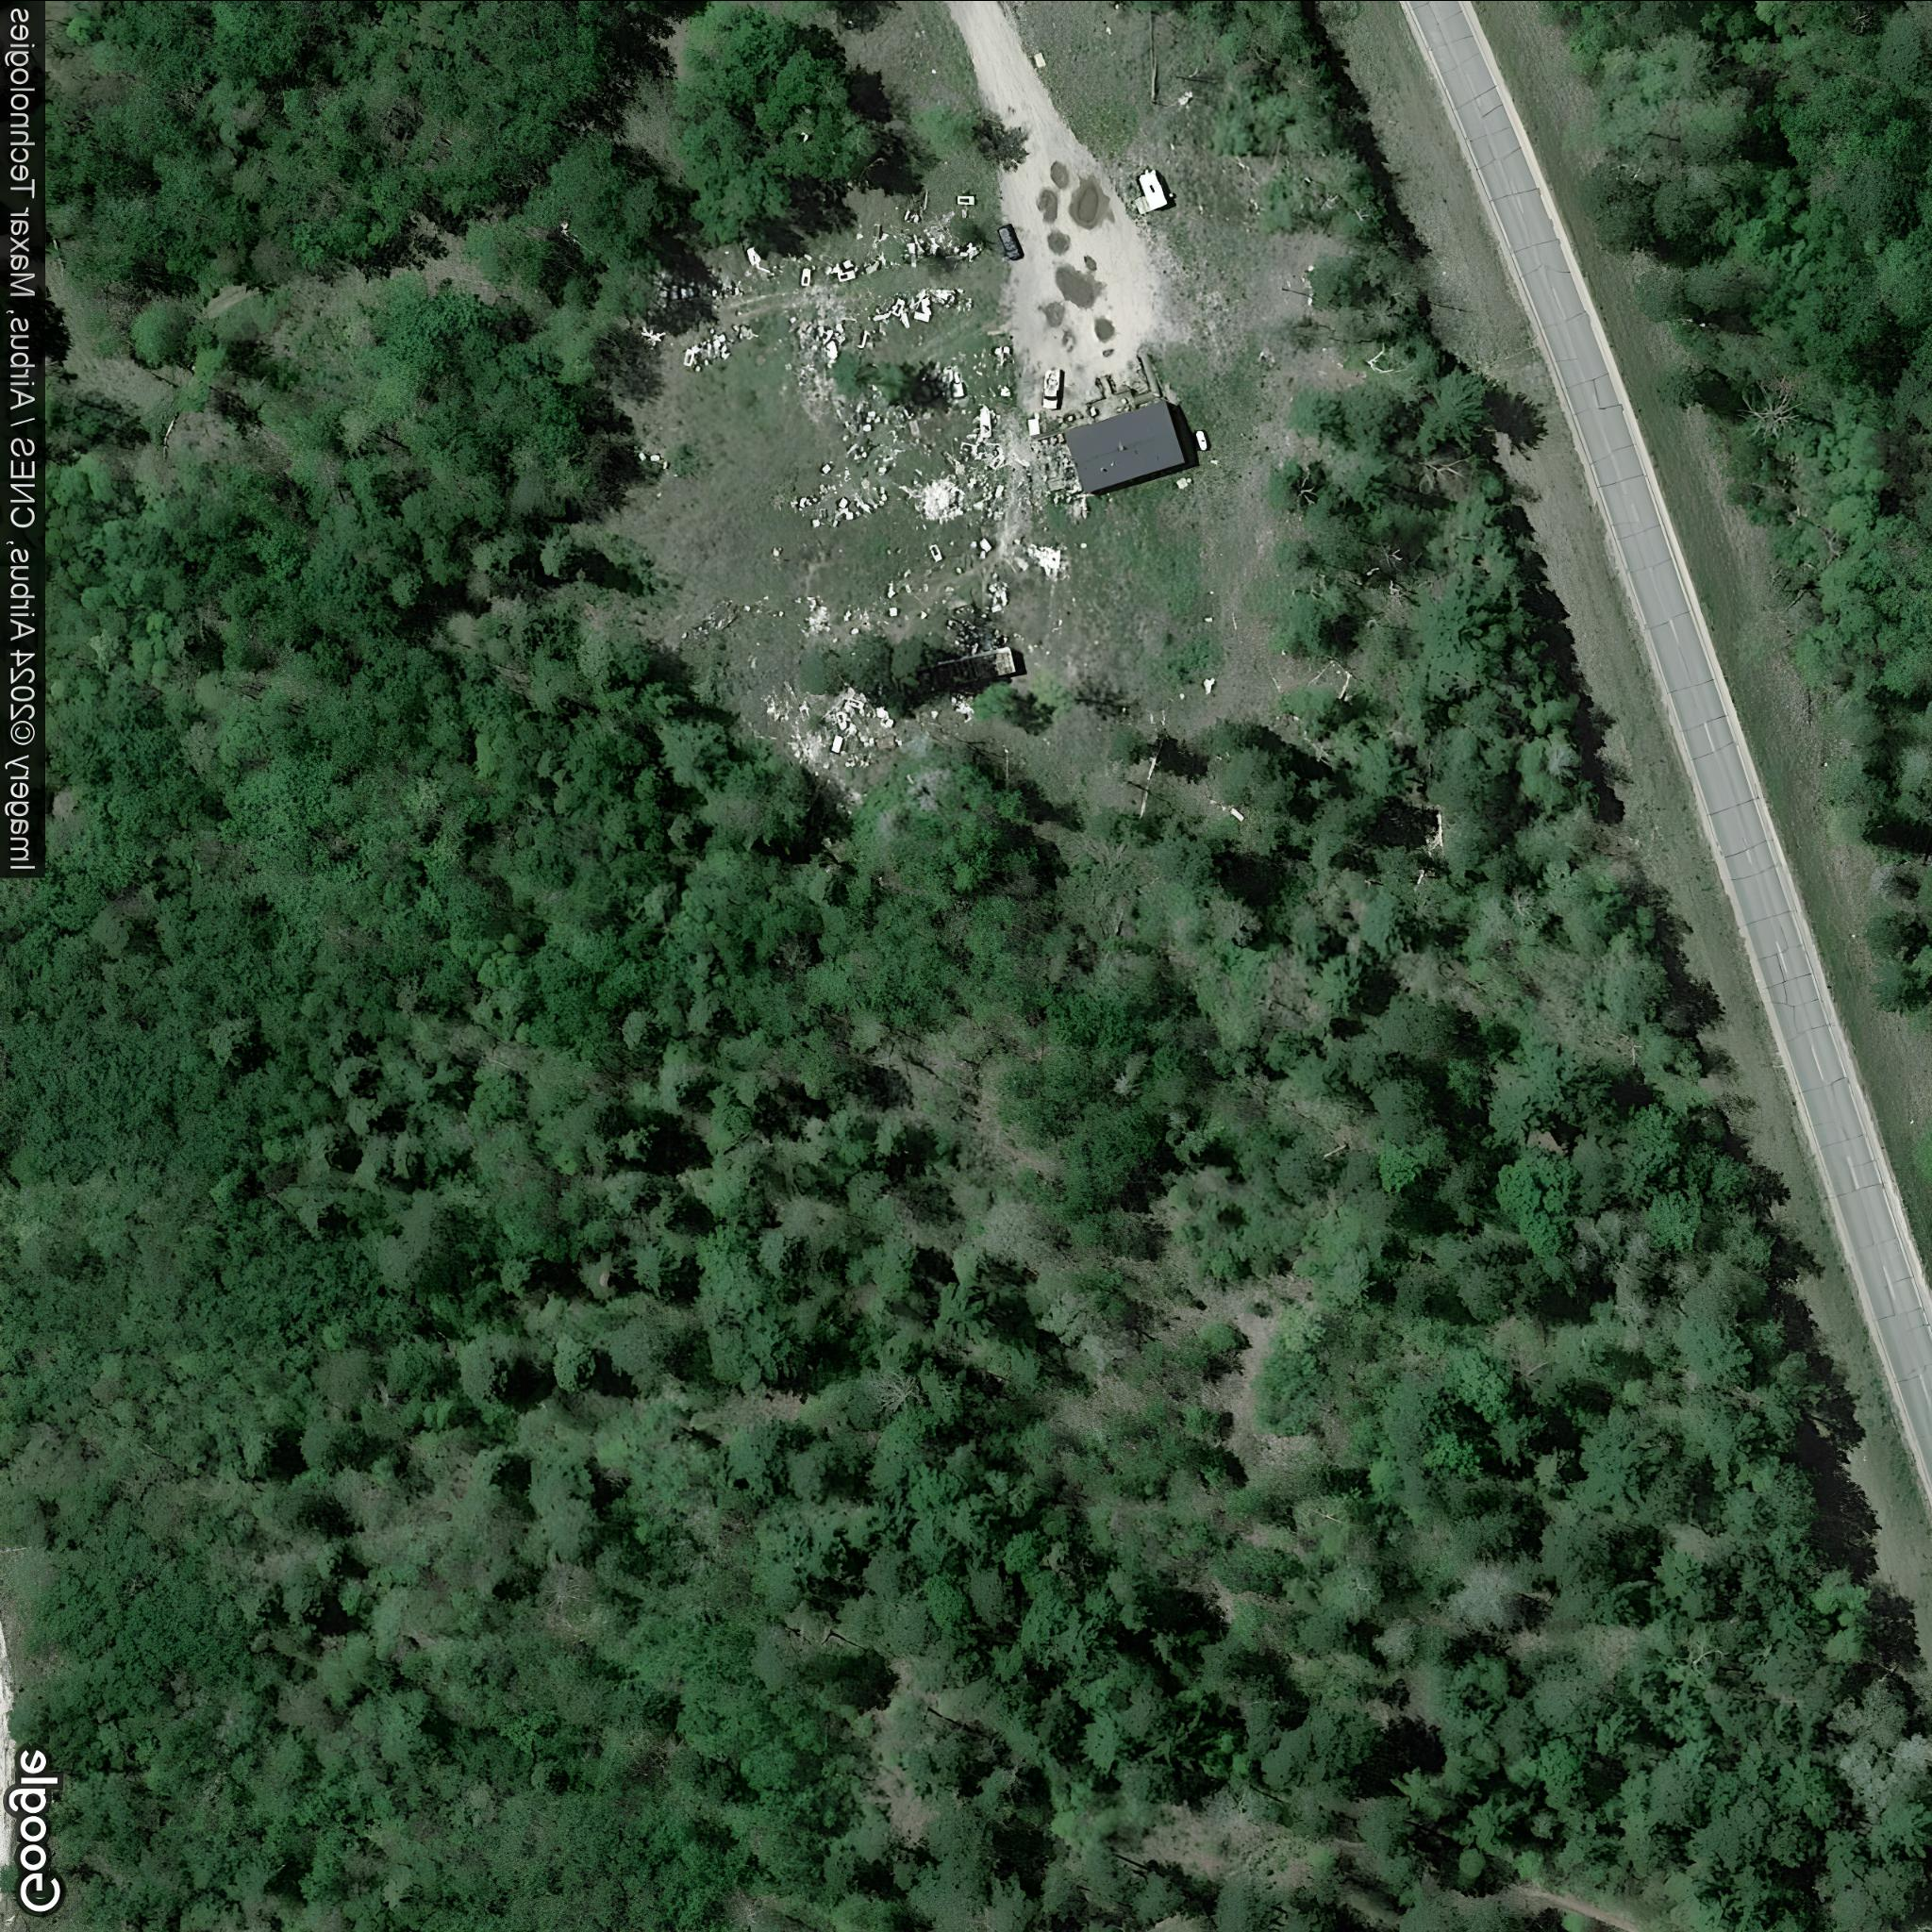House: (1062, 396, 1187, 497)
Propane: (1191, 426, 1214, 455)
